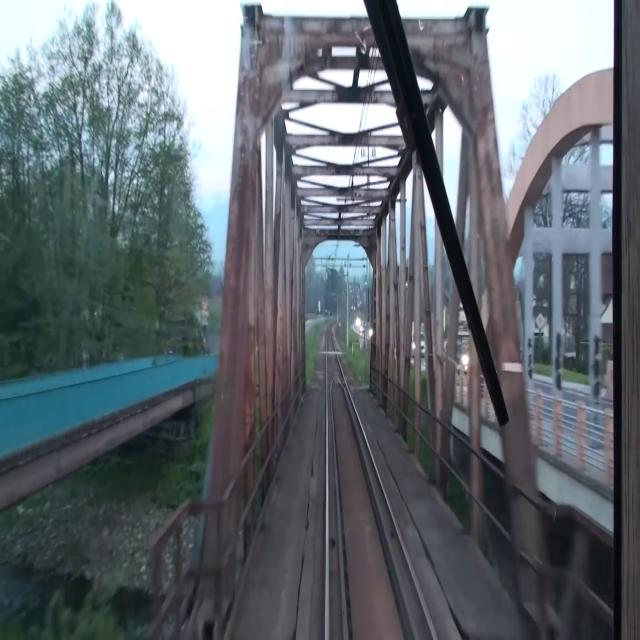rail-track: (333, 380, 408, 639), (354, 412, 431, 639), (329, 407, 341, 639), (328, 329, 343, 385)
